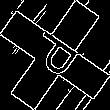P_SE: (24, 26, 86, 84)
